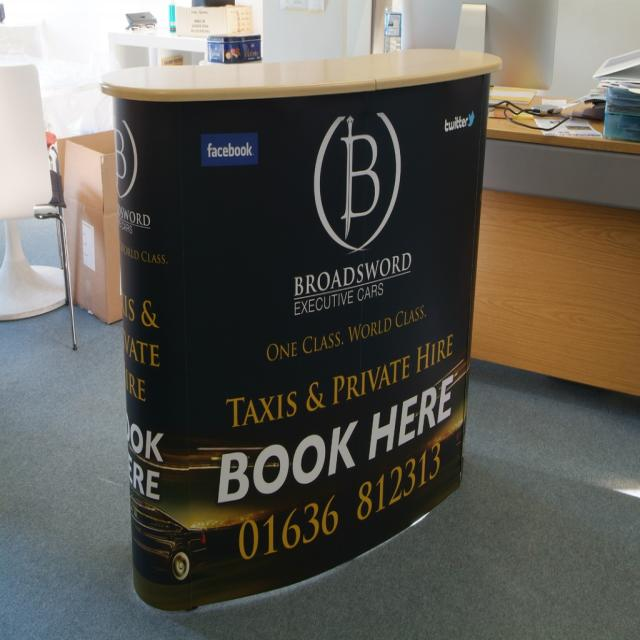chair: (0, 63, 78, 352)
desk: (106, 46, 552, 604)
